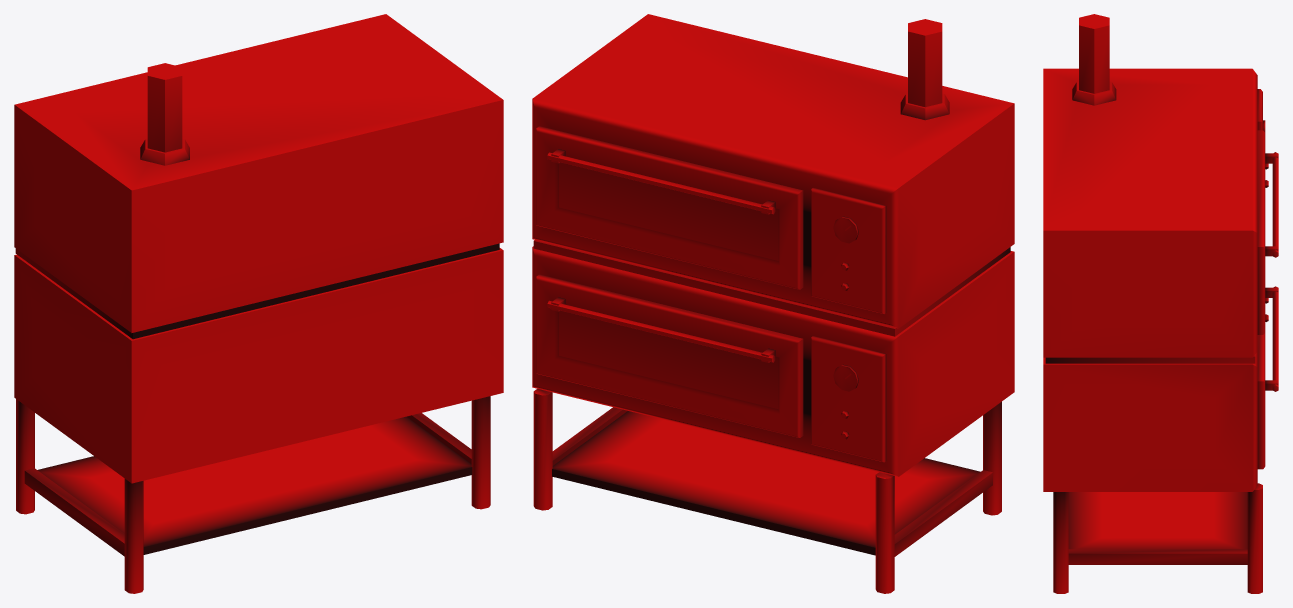
File: CI_Bakery_DeckOven.fbx
3 renders of one model, left to right at view 1: azimuth 30°, elevation 25°; view 2: azimuth 150°, elevation 25°; view 3: azimuth 270°, elevation 25°, orthographic. The views are drawn at different scales.
Visible parts, largest first — view 1: CI_Bakery_DeckOven; view 2: CI_Bakery_DeckOven; view 3: CI_Bakery_DeckOven.
Part boxes in pixels (bbox=[...]): CI_Bakery_DeckOven: bbox=[14, 14, 503, 593]; CI_Bakery_DeckOven: bbox=[532, 14, 1014, 593]; CI_Bakery_DeckOven: bbox=[1043, 14, 1278, 593].
Bounding box in the file's own units: 1.5 × 1.9 × 0.9221.
